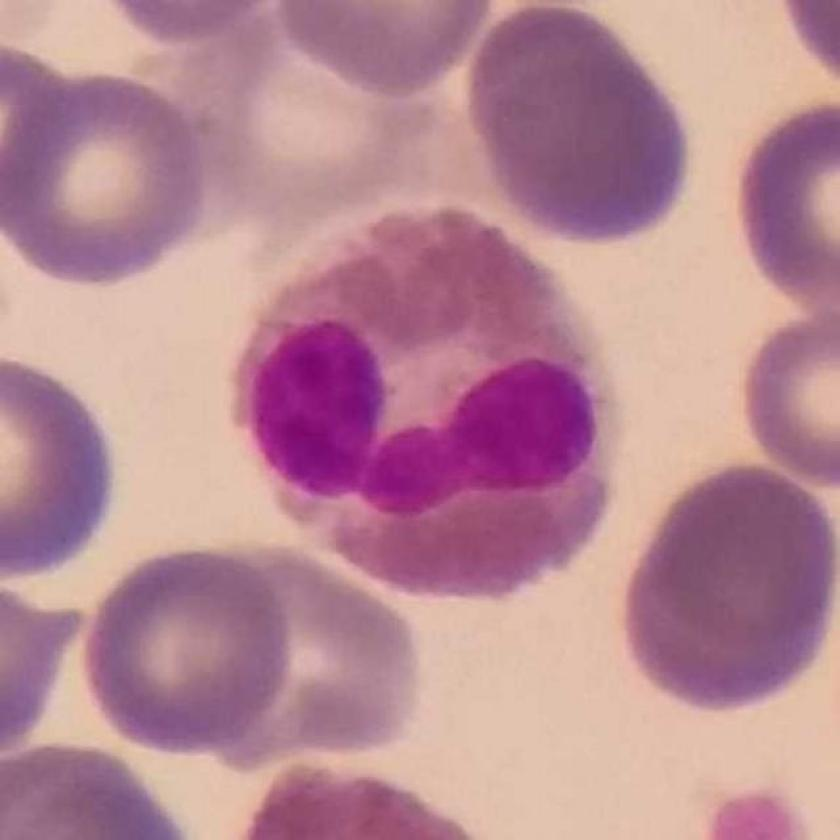eosinophil: (231, 204, 625, 605)
